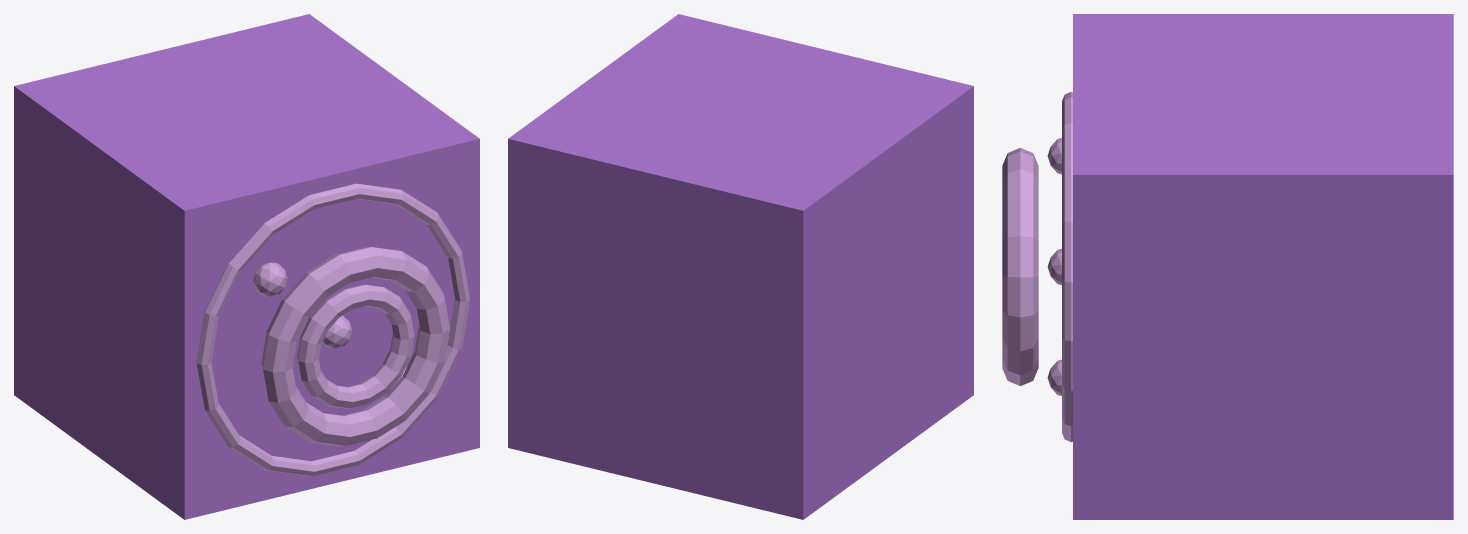
File: teleport.glb
3 views of the same model, side by side, from view 1: azimuth 30°, elevation 25°; view 2: azimuth 150°, elevation 25°; view 3: azimuth 270°, elevation 25° (orthographic). The views are drawn at different scales.
Parts seen in each view (by area): view 1: world; view 2: world; view 3: world.
Boxes of the visible parts, <box> form: world: <box>14,14,479,519</box>; world: <box>508,14,973,519</box>; world: <box>1002,14,1453,519</box>.
Size of the model in its own units: 1.05 by 1.05 by 1.25.
